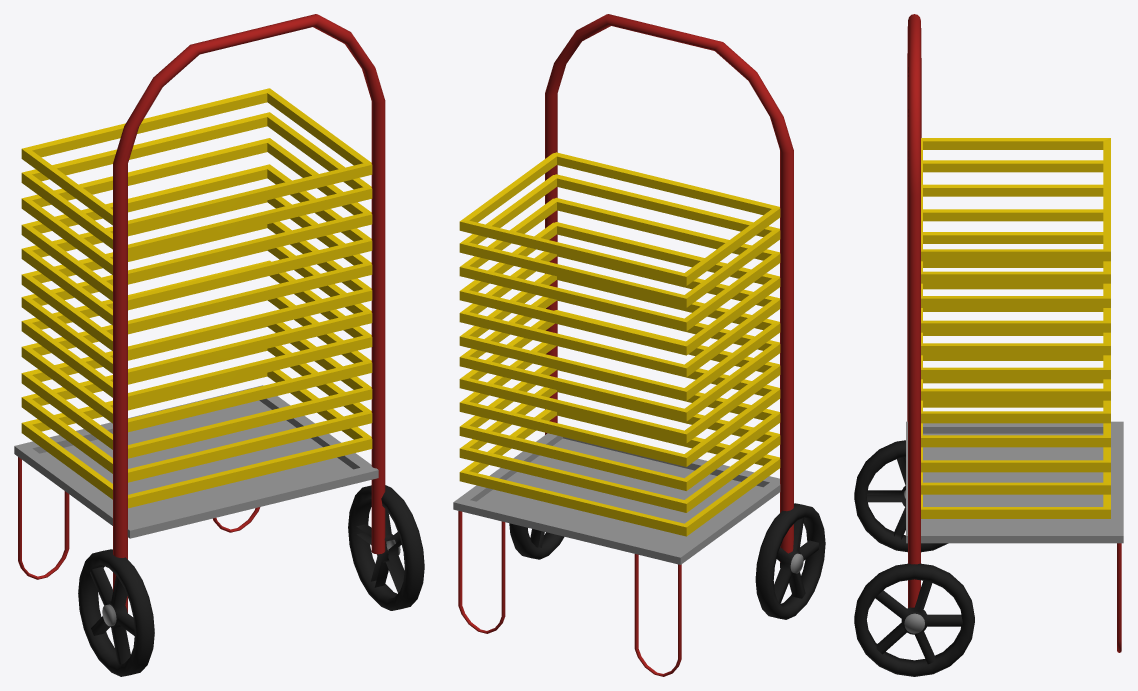
File: Carrito.obj
3 renders of one model, left to right at view 1: azimuth 30°, elevation 25°; view 2: azimuth 150°, elevation 25°; view 3: azimuth 270°, elevation 25°, orthographic. The views are drawn at different scales.
Visible parts, largest first — view 1: Carro_Cube.013; view 2: Carro_Cube.013; view 3: Carro_Cube.013.
Part boxes in pixels (x1,y1,x2,y2): Carro_Cube.013: [14, 14, 424, 676]; Carro_Cube.013: [453, 14, 825, 676]; Carro_Cube.013: [854, 14, 1123, 676].
Size of the model in its own units: 0.8741 by 1.77 by 0.7555.
